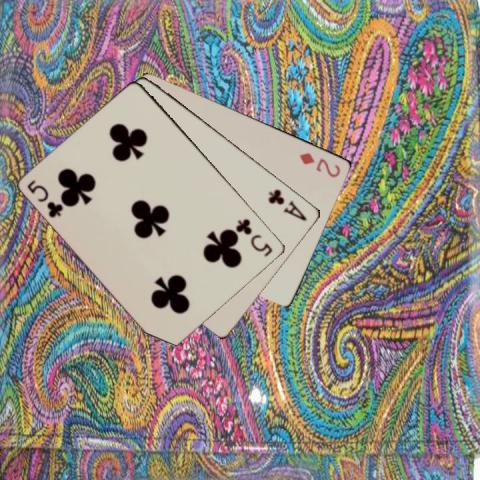2d: (296, 149, 343, 179)
5c: (233, 215, 275, 259), (25, 177, 64, 219)
Ac: (265, 186, 309, 223)
